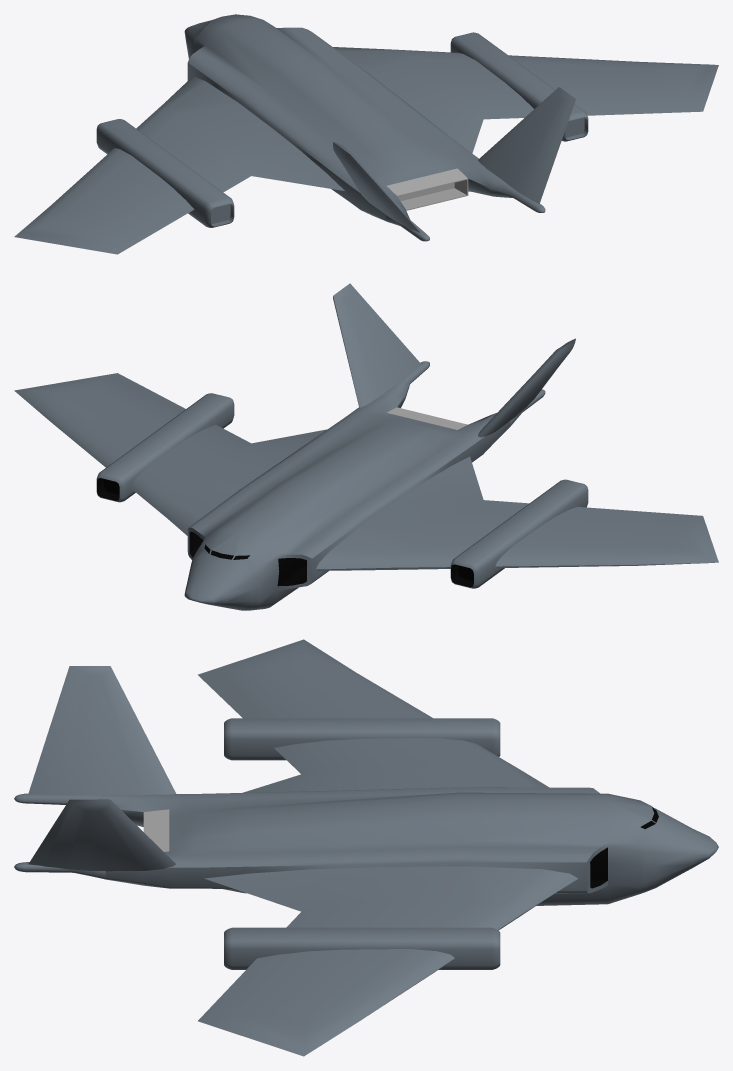
3 renders of one model, top to bottom at view 1: azimuth 30°, elevation 25°; view 2: azimuth 150°, elevation 25°; view 3: azimuth 270°, elevation 25°, orthographic. The views are drawn at different scales.
Visible parts, largest first — view 1: Main Wings, Body, Engines, Tail Wings; view 2: Main Wings, Body, Engines, Tail Wings; view 3: Main Wings, Body, Tail Wings, Engines.
Boxes of the visible parts, bbox=[...] form: Main Wings: bbox=[14, 47, 718, 254]; Body: bbox=[184, 14, 545, 241]; Engines: bbox=[96, 32, 588, 227]; Tail Wings: bbox=[333, 87, 575, 232]; Main Wings: bbox=[14, 373, 718, 570]; Body: bbox=[184, 361, 545, 610]; Engines: bbox=[96, 393, 588, 588]; Tail Wings: bbox=[333, 283, 575, 437]; Main Wings: bbox=[198, 639, 578, 1056]; Body: bbox=[14, 787, 718, 905]; Tail Wings: bbox=[28, 666, 176, 871]; Engines: bbox=[143, 718, 500, 969].
Bounding box in the file's own units: 637 × 115 × 455.
